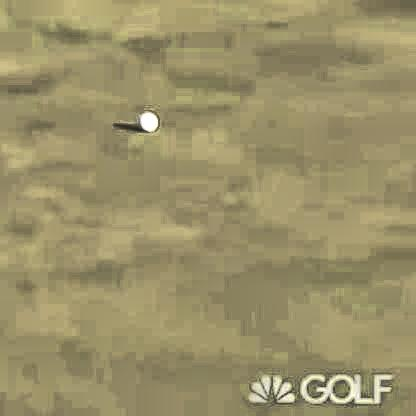golfball: (134, 109, 156, 128)
